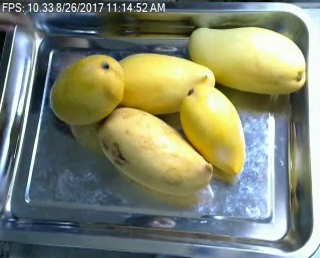Mango: (100, 107, 212, 195), (188, 27, 305, 94), (109, 53, 215, 117), (181, 84, 245, 174), (50, 55, 123, 126)
